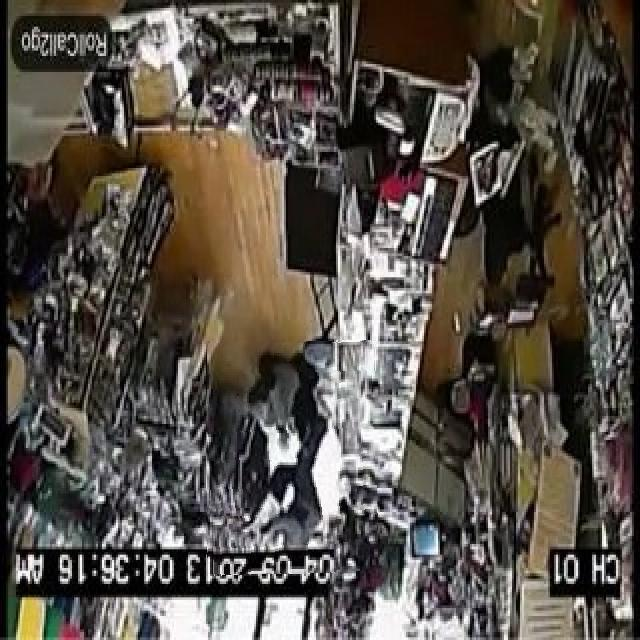Shoplifting: (207, 341, 377, 574)
